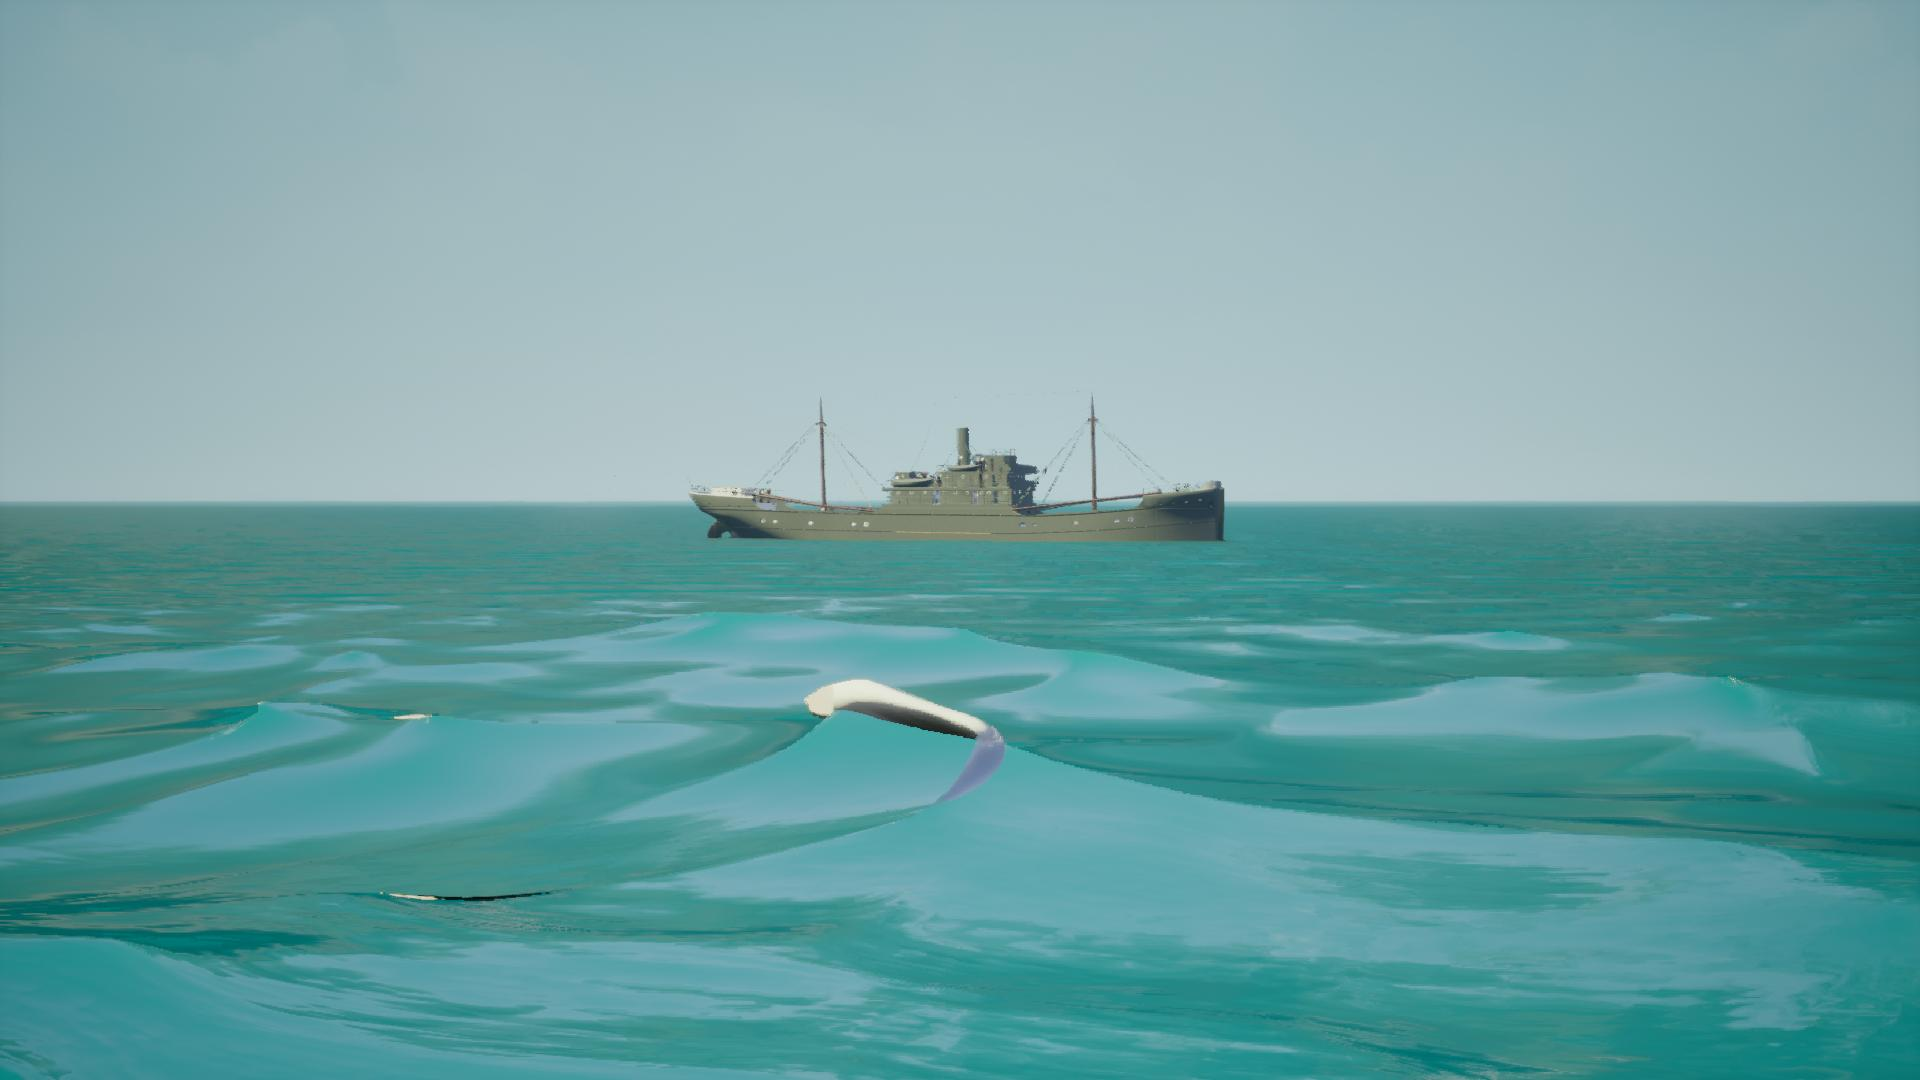Fishing Boat: (687, 392, 1229, 545)
